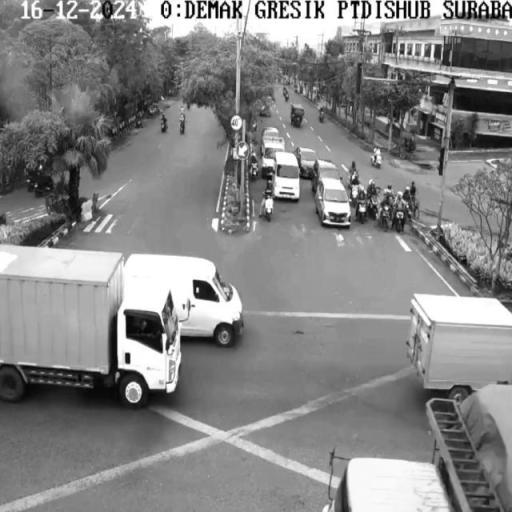car: (121, 255, 247, 339), (318, 179, 353, 230), (275, 158, 302, 198)
truck: (0, 251, 177, 398), (329, 386, 512, 511), (407, 292, 512, 386)
